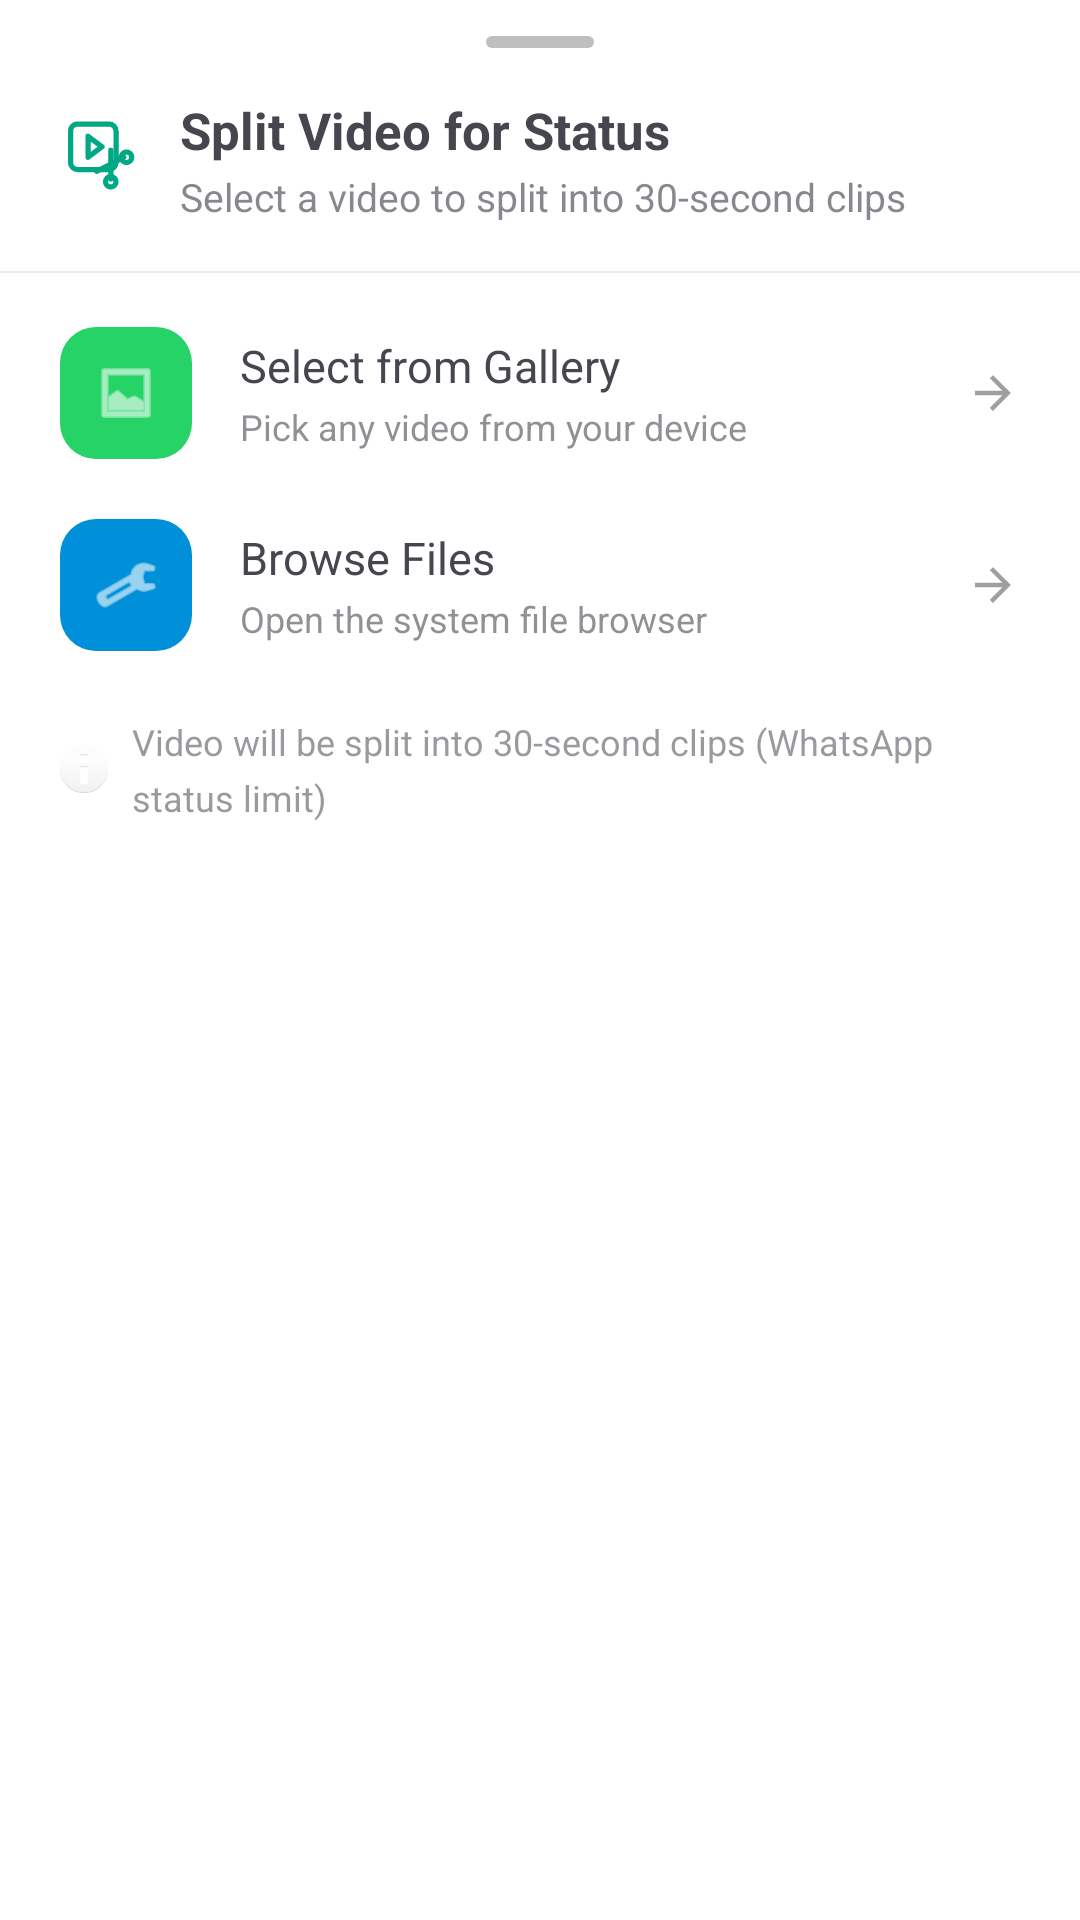

Named icons in this screenshot (1080×1920) and their centers, (x,y):
cutter: (101,155)
manage: (126,585)
